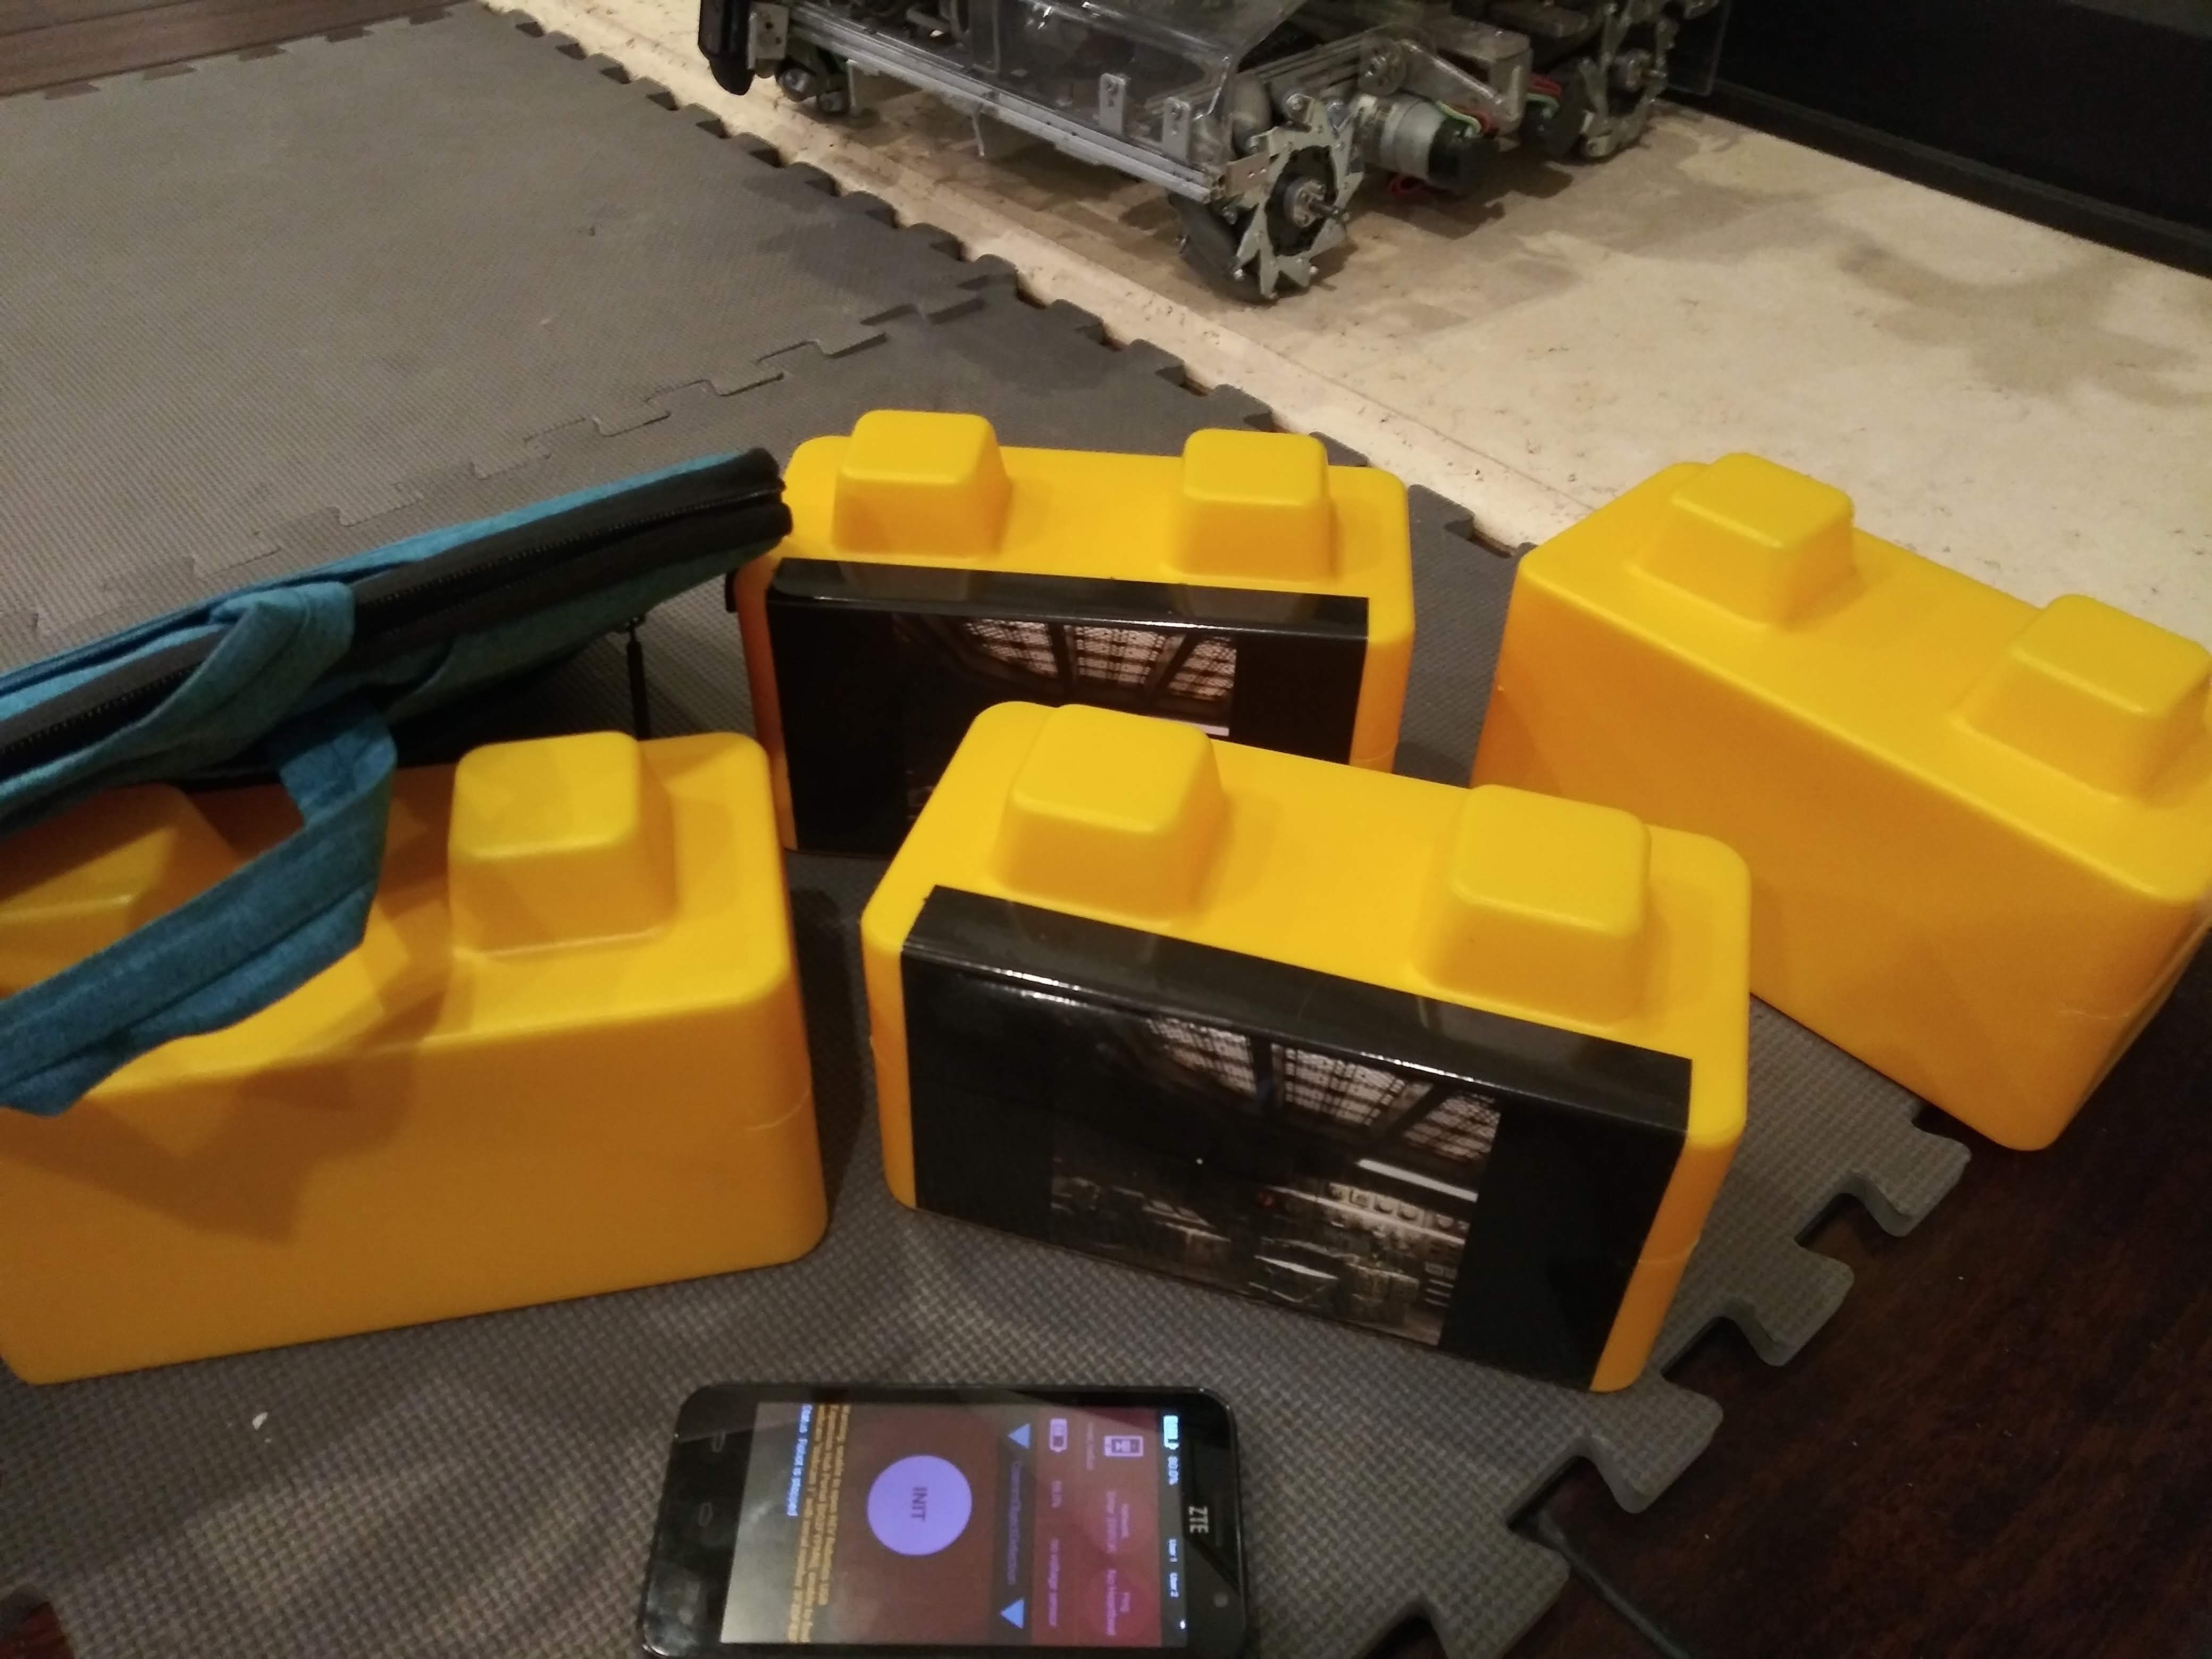skystone: (873, 798, 1724, 1347), (766, 434, 1395, 730)
stone: (1538, 502, 2167, 1004), (14, 917, 787, 1312)
